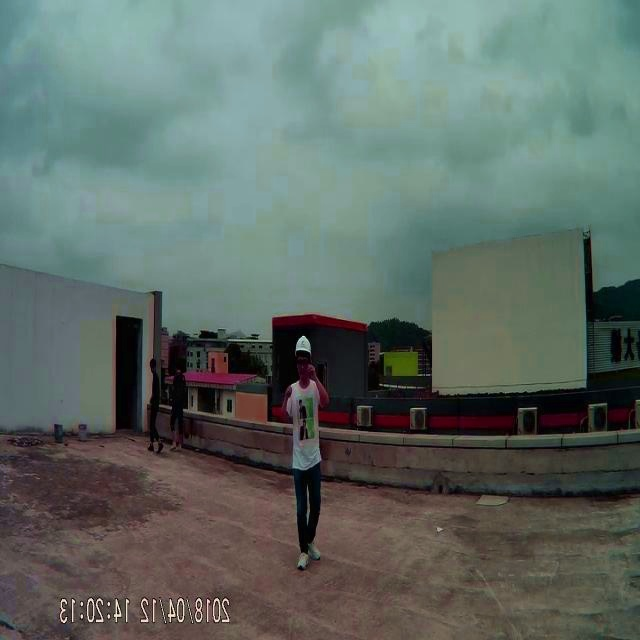Con_Casco: (295, 334, 313, 376)
Sin_Chaleco: (288, 376, 323, 472)
